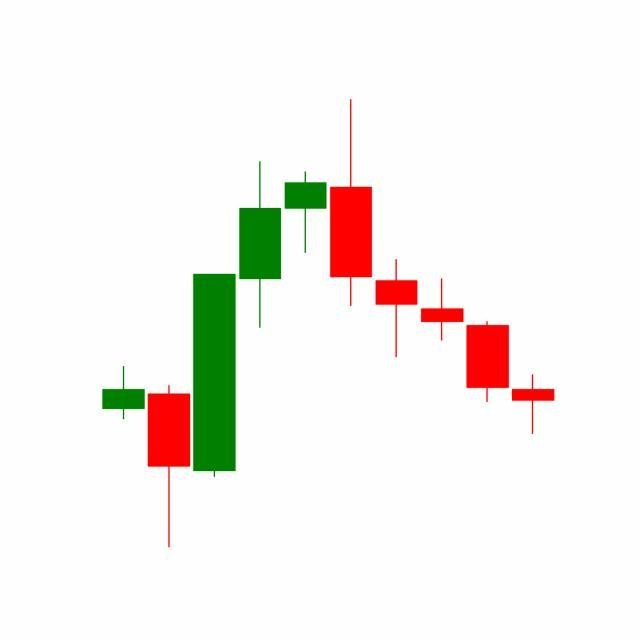Hikkake Pattern: (283, 100, 512, 408)
